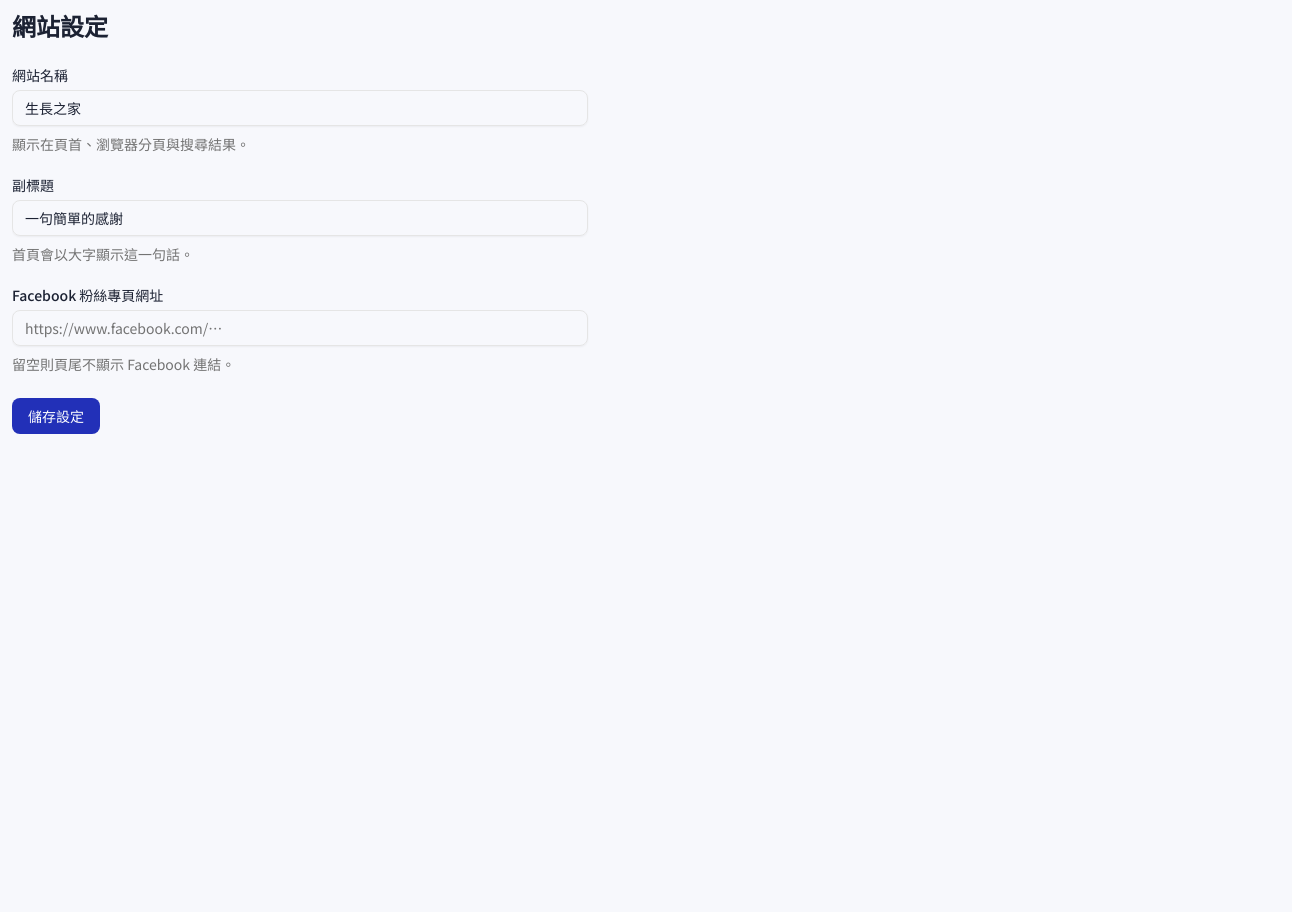
Test case: 載入並儲存網站設定
This screenshot has width=1292, height=912.
Replace the text in the field labelled "網站名稱" with "生長之家台灣" at {"x": 300, "y": 108}, box x1=12 y1=90 x2=588 y2=126
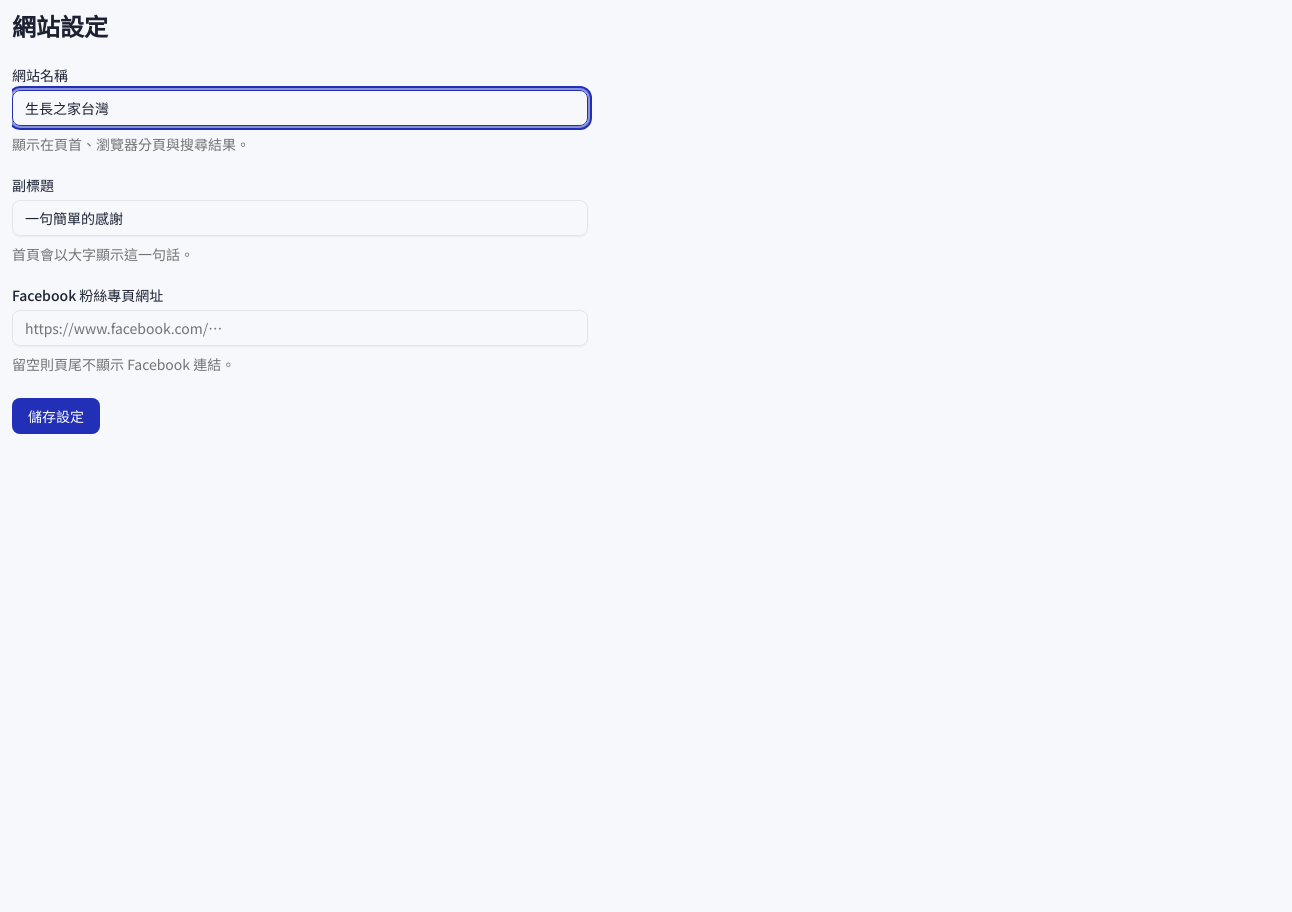
Type "https://www.facebook.com/seichonoie.tw" into the field labelled "Facebook 粉絲專頁網址" at {"x": 300, "y": 328}, box x1=12 y1=310 x2=588 y2=346
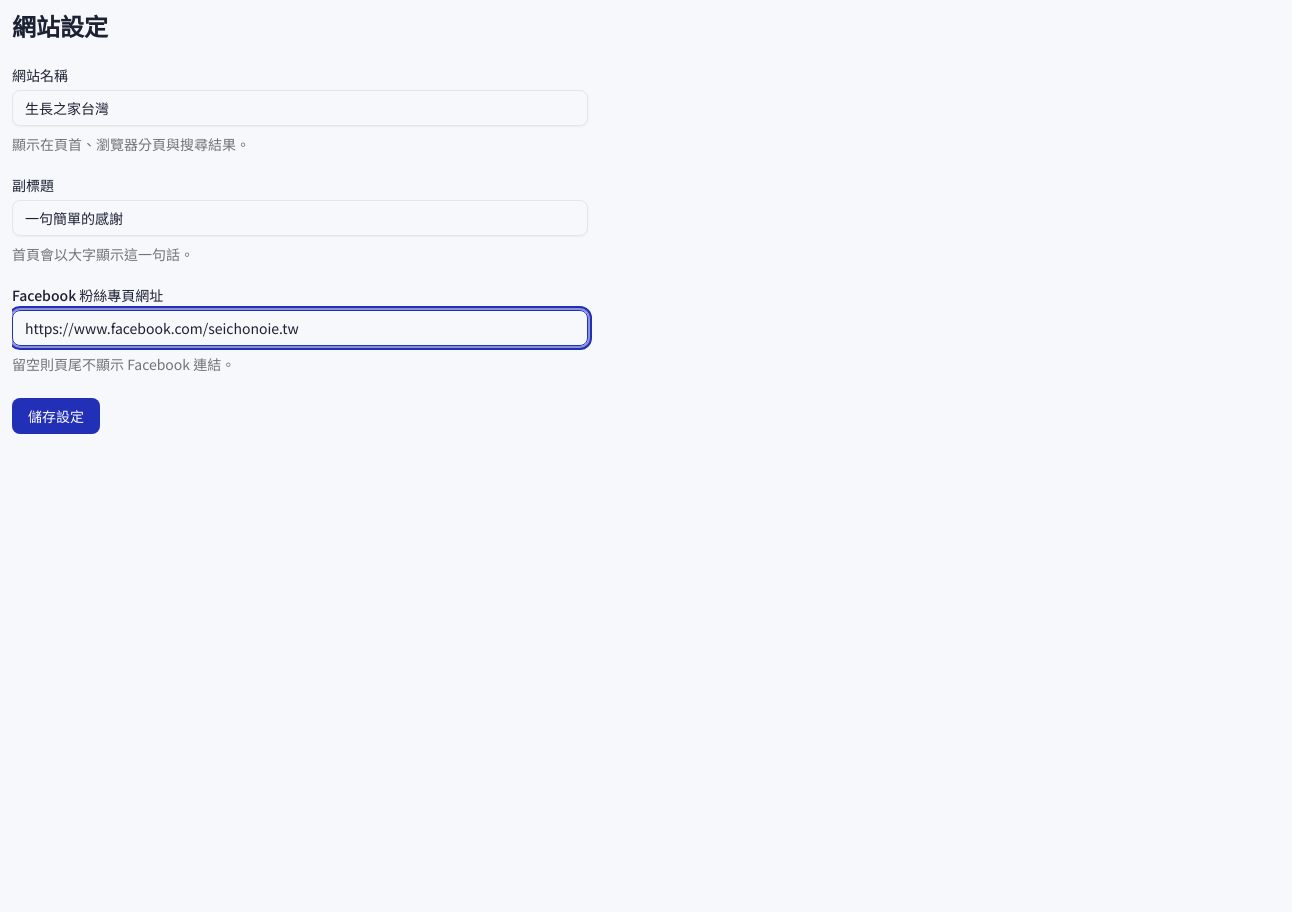
Click the button "儲存設定" at {"x": 56, "y": 416}, box x1=12 y1=398 x2=100 y2=434
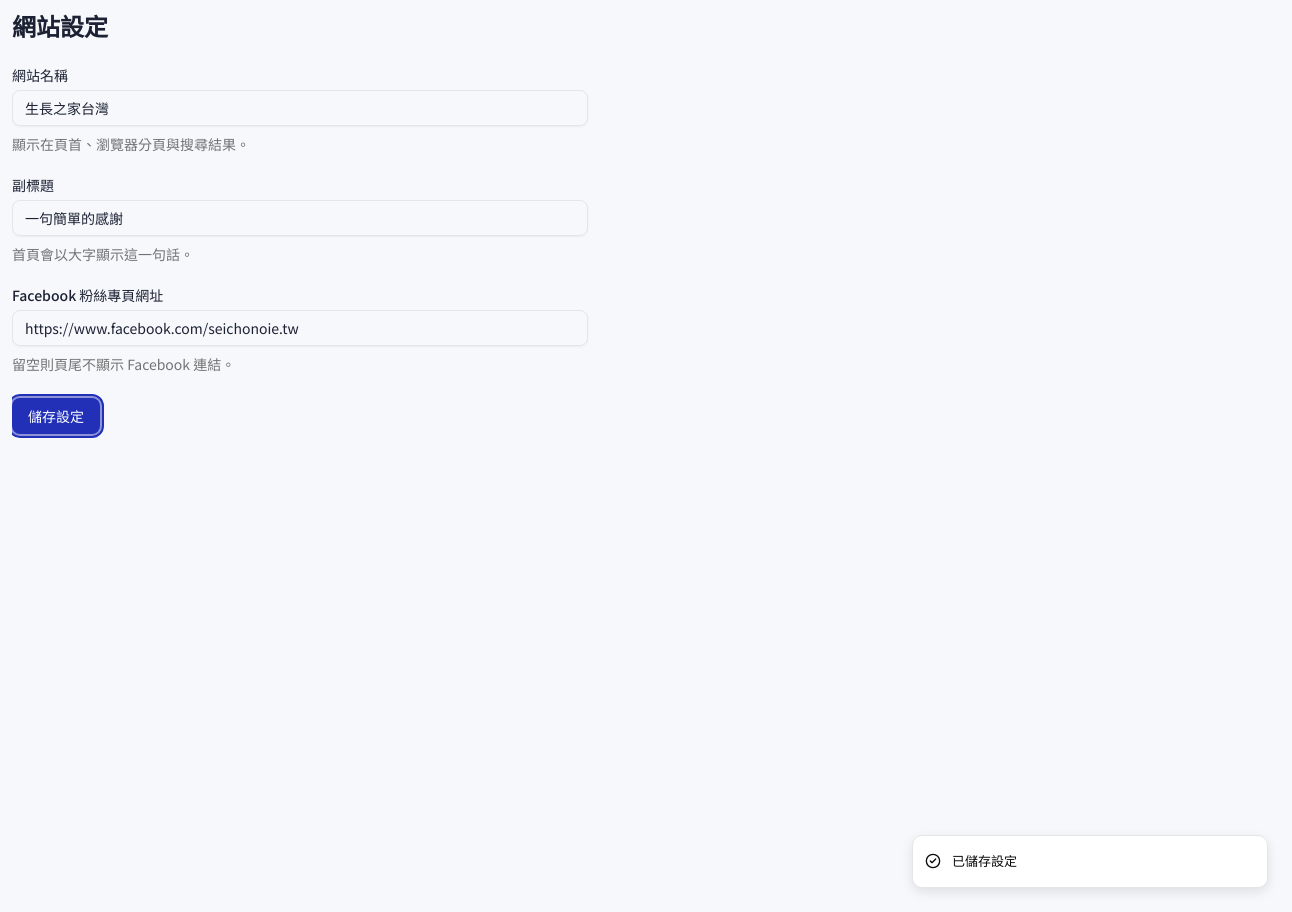
Now the text "已儲存設定" is shown, box x1=952 y1=852 x2=1017 y2=871
